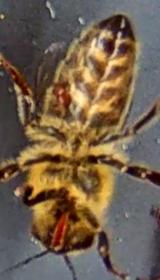varroa_mite: (50, 84, 76, 106)
